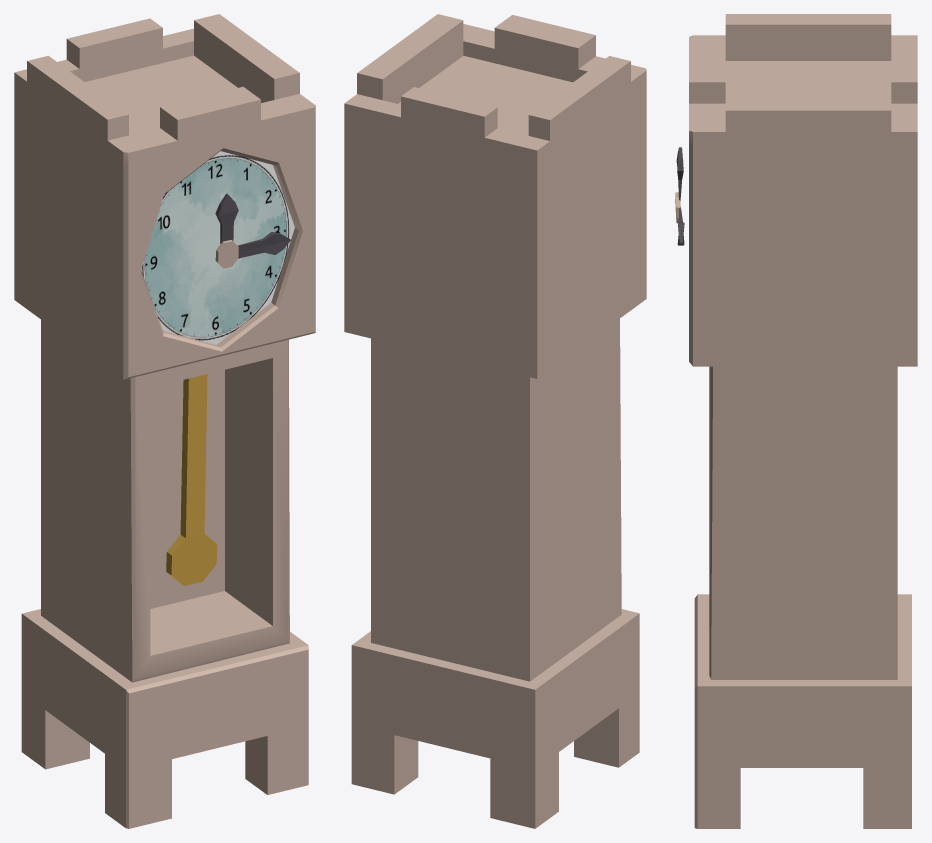
File: prop_clock_atelier.fbx
3 renders of one model, left to right at view 1: azimuth 30°, elevation 25°; view 2: azimuth 150°, elevation 25°; view 3: azimuth 270°, elevation 25°, orthographic. The views are drawn at different scales.
Parts seen in each view (by area): view 1: Clock_atelier, Clock_pendulum, Clock_large_hand, Clock_small_hand; view 2: Clock_atelier; view 3: Clock_atelier.
Part boxes in pixels (bbox=[...]): Clock_atelier: bbox=[14, 14, 315, 828]; Clock_pendulum: bbox=[166, 374, 217, 586]; Clock_large_hand: bbox=[238, 232, 290, 258]; Clock_small_hand: bbox=[215, 193, 238, 243]; Clock_atelier: bbox=[344, 14, 646, 828]; Clock_atelier: bbox=[675, 14, 917, 828].
Size of the model in its own units: 47.44 by 165 by 50.31.
Materials: 4 (1 with a texture image).
